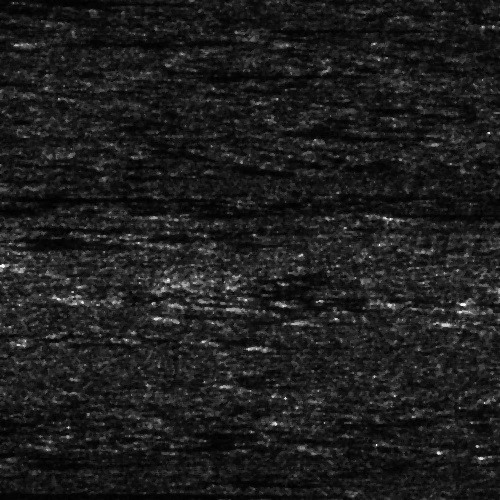object: (333, 208, 416, 219), (133, 209, 226, 216), (120, 65, 173, 76), (262, 317, 335, 324), (12, 0, 53, 5), (461, 304, 500, 309), (0, 259, 32, 264), (245, 342, 276, 347), (23, 39, 64, 42), (490, 245, 500, 250)
shadow: (147, 65, 327, 76), (0, 190, 134, 201), (375, 208, 500, 219), (44, 39, 219, 42), (299, 317, 365, 324), (180, 209, 241, 216), (261, 342, 327, 347), (11, 259, 73, 264), (33, 0, 92, 5), (277, 26, 339, 29)
